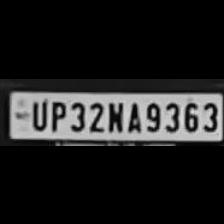2: (86, 98, 104, 132)
3: (199, 98, 219, 132), (66, 97, 86, 130), (161, 97, 179, 130)
6: (180, 97, 198, 130)
9: (141, 97, 161, 130)
A: (124, 98, 142, 132)
N: (104, 98, 124, 132)
P: (47, 97, 66, 130)
U: (27, 96, 47, 130)
